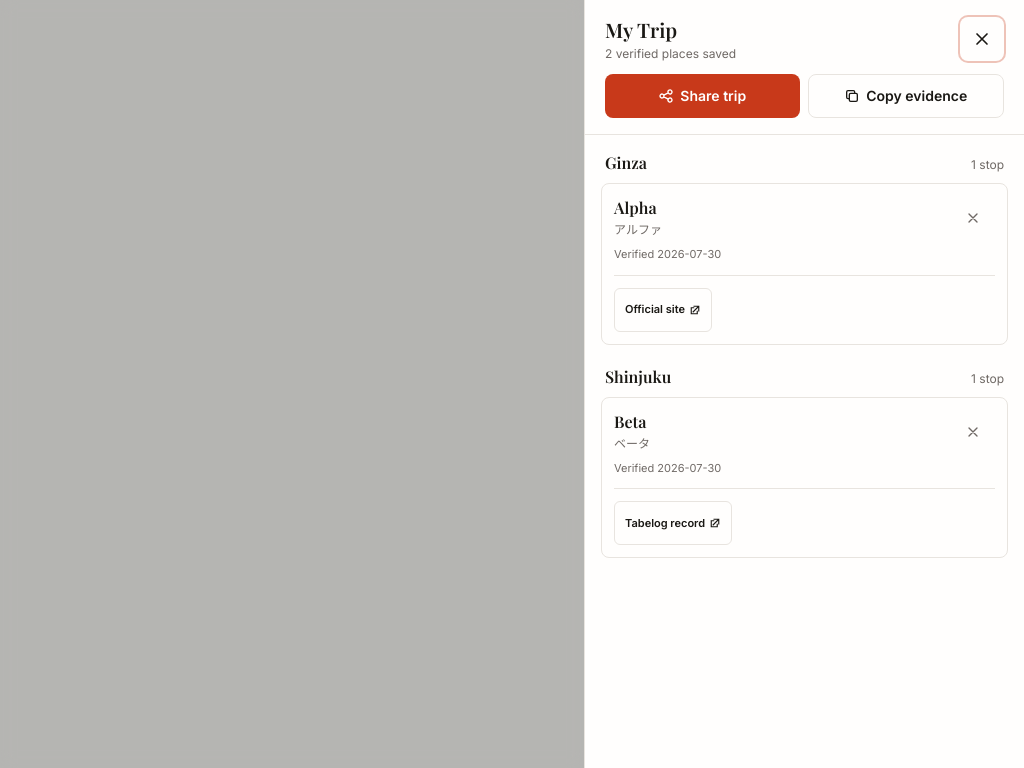
Test: My Trip edge cases › groups multiple neighborhoods and reaches the empty state after removals
The image size is (1024, 768).
Check: the heading "Ginza" is shown, box left=605, top=151, right=647, bottom=175
Check: the heading "Shinjuku" is shown, box left=605, top=364, right=671, bottom=388
Click the button named "Remove Alpha from My Trip" at (973, 218), box left=951, top=196, right=995, bottom=240
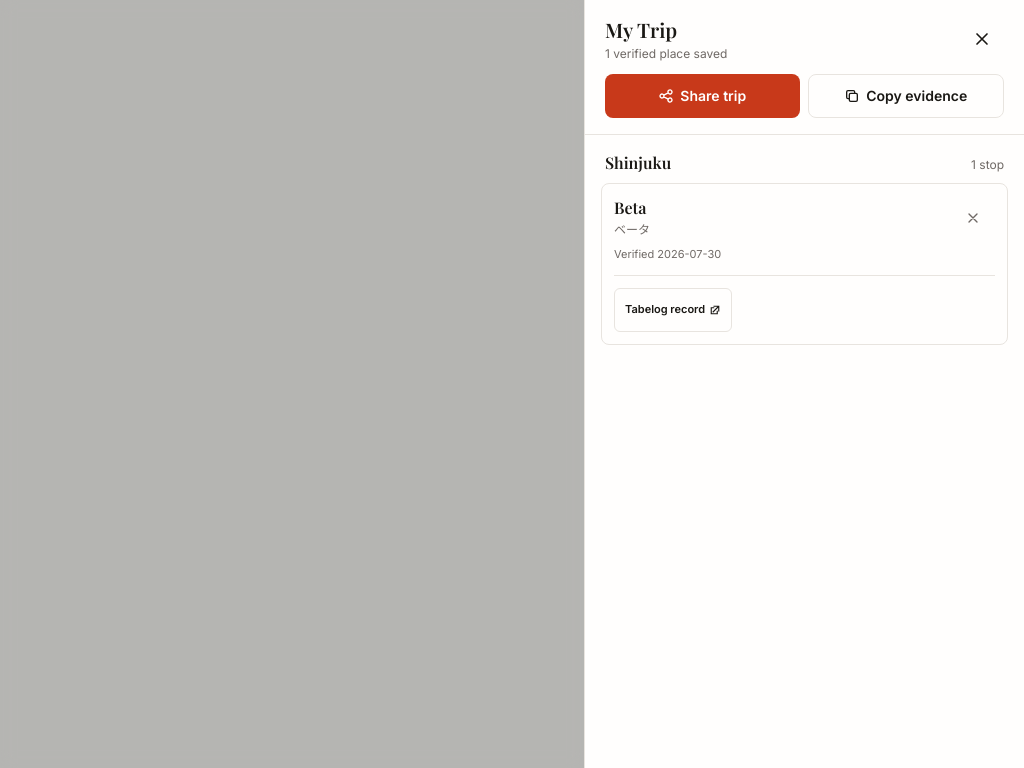
Check: the button "Alpha" is gone
Check: the text "1 verified place saved" is shown, box left=605, top=46, right=727, bottom=62
Click the button named "Remove Beta from My Trip" at (973, 218), box left=951, top=196, right=995, bottom=240
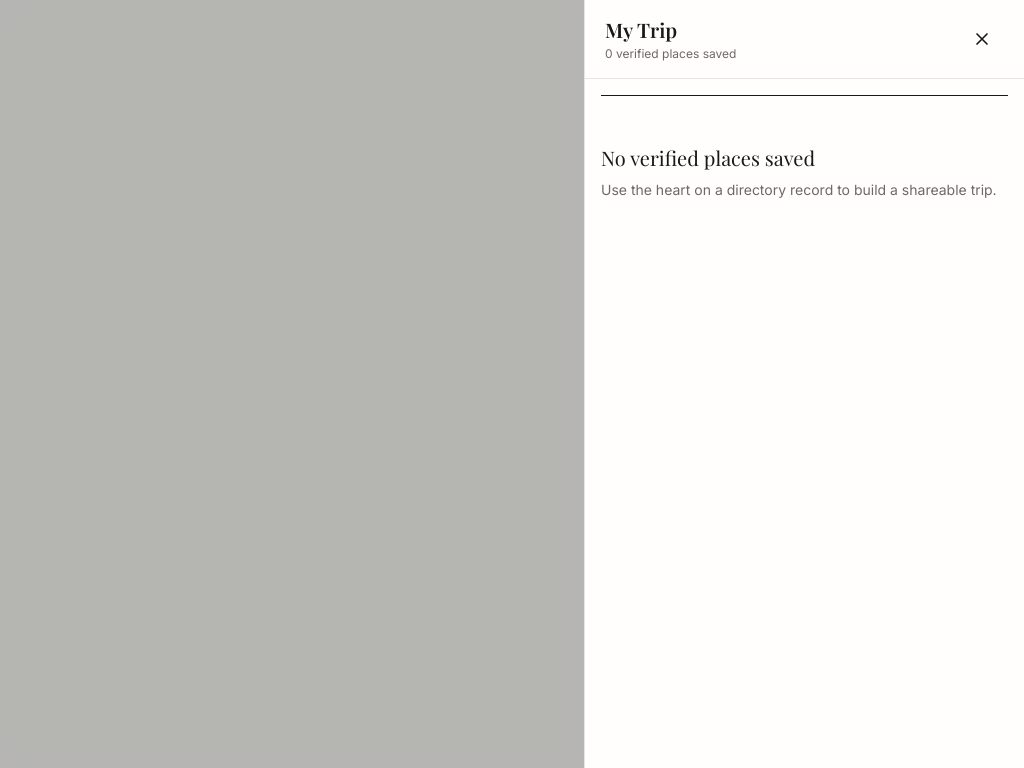
Check: the text "No verified places saved" is shown, box left=601, top=144, right=815, bottom=171
Check: the text "0 verified places saved" is shown, box left=605, top=46, right=736, bottom=62
